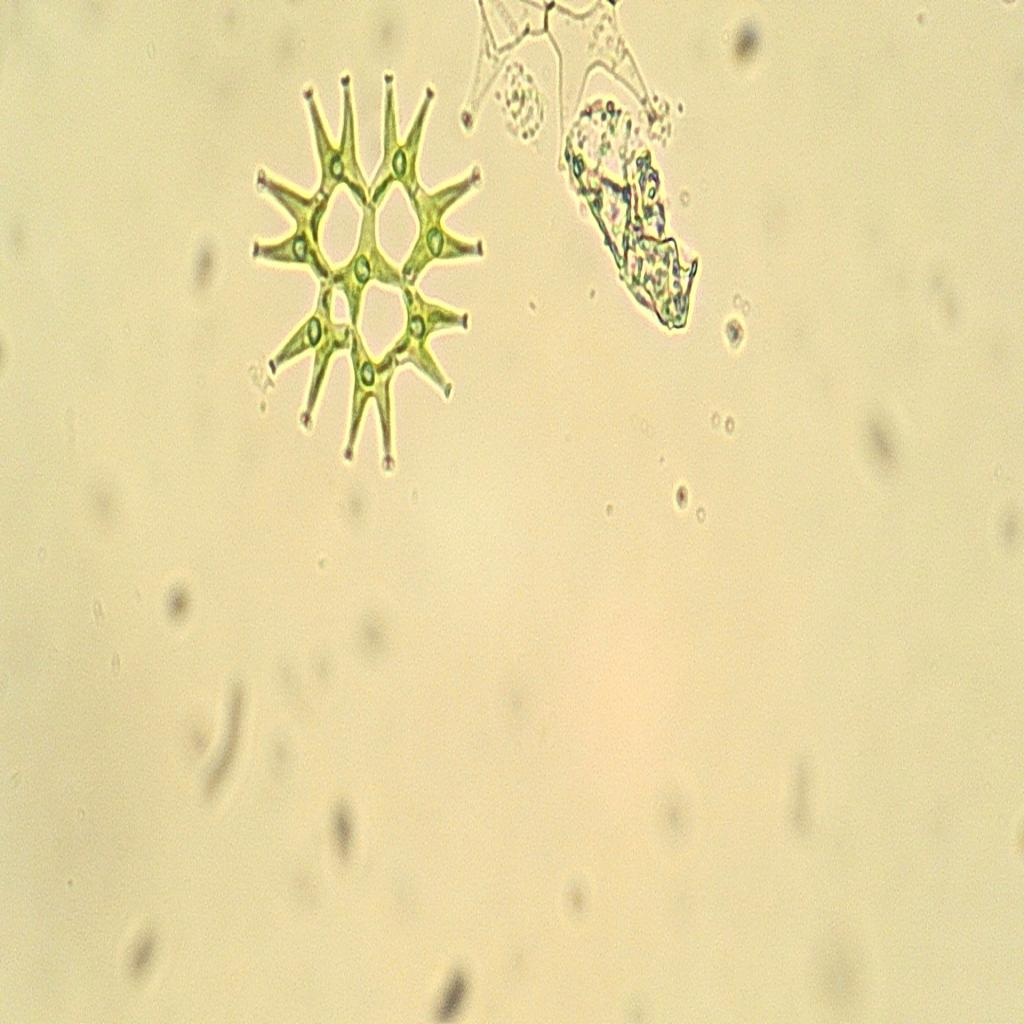Pediastrum_75T: (244, 42, 499, 501)
